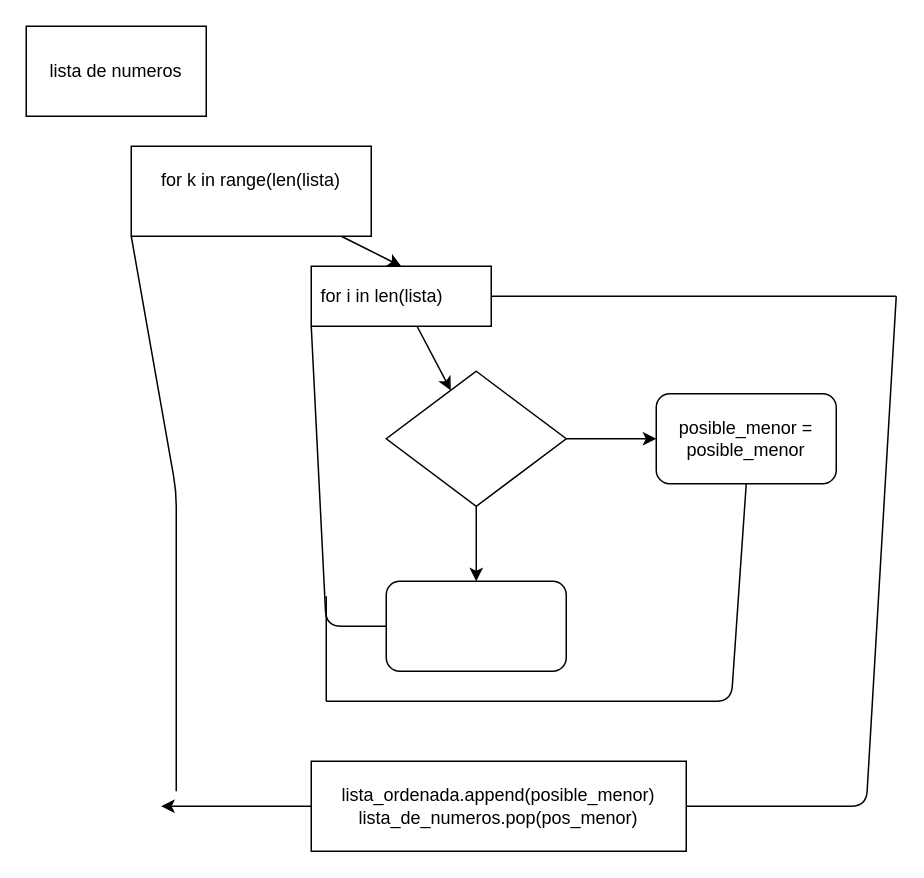
Some shapes in this 924 by 878 pixel diagram are drawn without their labels. Here are the shapes that lost their labels. From the top down, the centre of each, then its label:
pixel 475 438: list(i) > list(i+1)
pixel 475 625: posible_menor = list(i) pos_menor = i
